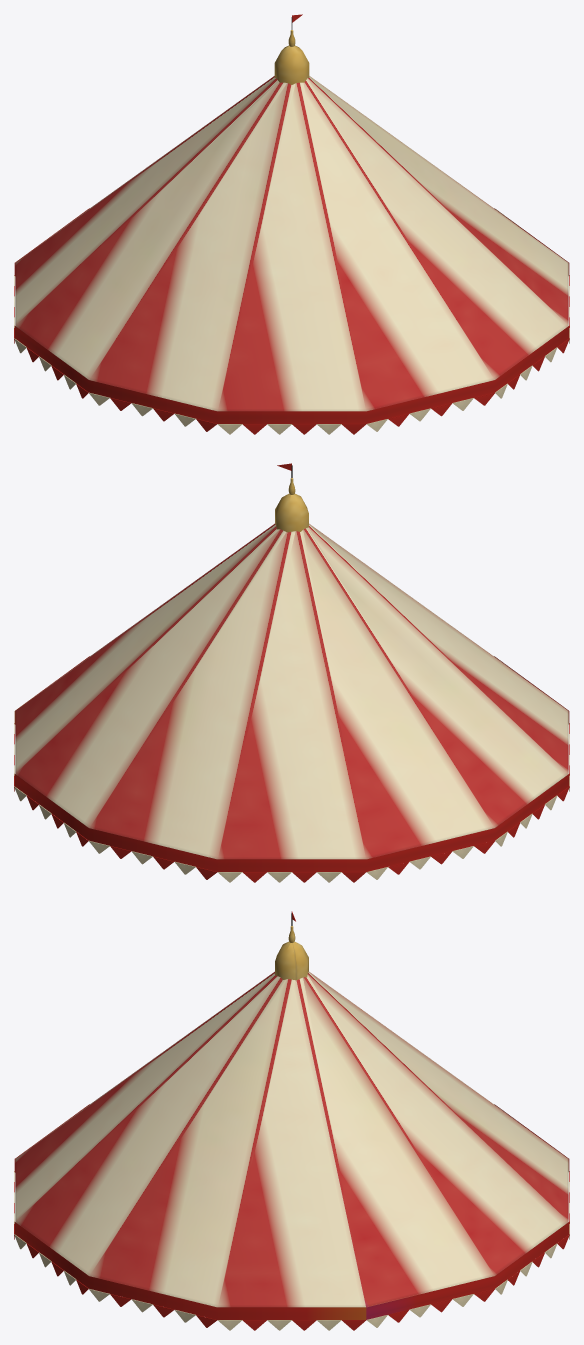
Rendered from big_top_roof.obj.
The picture shows the model from 3 angles, top to bottom: view 1: azimuth 30°, elevation 25°; view 2: azimuth 150°, elevation 25°; view 3: azimuth 270°, elevation 25°; orthographic projection.
Visible parts, largest first — view 1: big_top_roof; view 2: big_top_roof; view 3: big_top_roof.
Boxes of the visible parts, x1=… form: big_top_roof: x1=14, y1=14, x2=569, y2=434; big_top_roof: x1=14, y1=463, x2=569, y2=882; big_top_roof: x1=14, y1=911, x2=569, y2=1330.
Size of the model in its own units: 15.92 by 9.53 by 15.92.
Materials: 1 (1 with a texture image).
